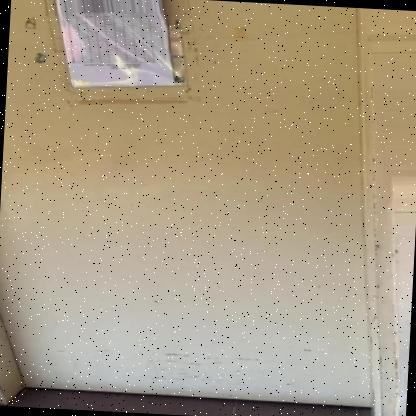door: (0, 0, 381, 411)
